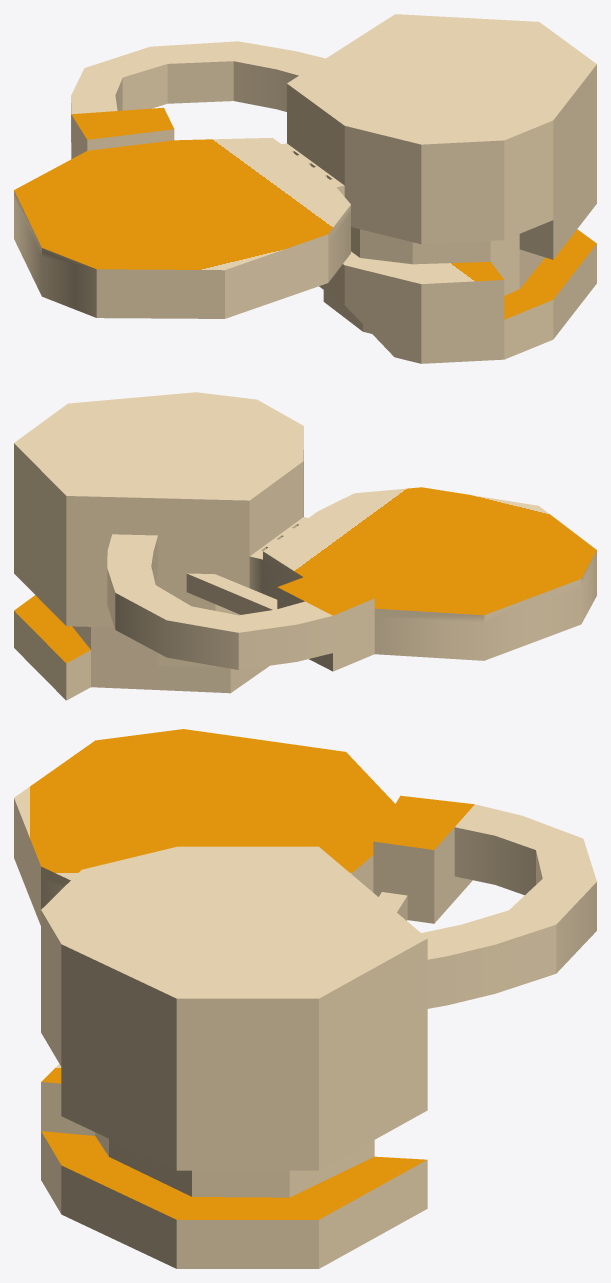
File: testlevel.obj
3 renders of one model, top to bottom at view 1: azimuth 30°, elevation 25°; view 2: azimuth 150°, elevation 25°; view 3: azimuth 270°, elevation 25°, orthographic. The views are drawn at different scales.
Parts seen in each view (by area): view 1: pCube5; view 2: pCube5; view 3: pCube5.
Part boxes in pixels (bbox=[...]): pCube5: bbox=[14, 14, 596, 363]; pCube5: bbox=[14, 392, 596, 700]; pCube5: bbox=[14, 729, 596, 1268].
Bounding box in the file's own units: 29 × 11 × 21.5.
